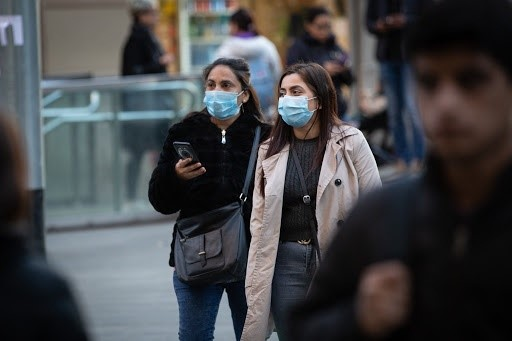face_with_mask: (275, 62, 337, 133), (199, 56, 257, 121)
